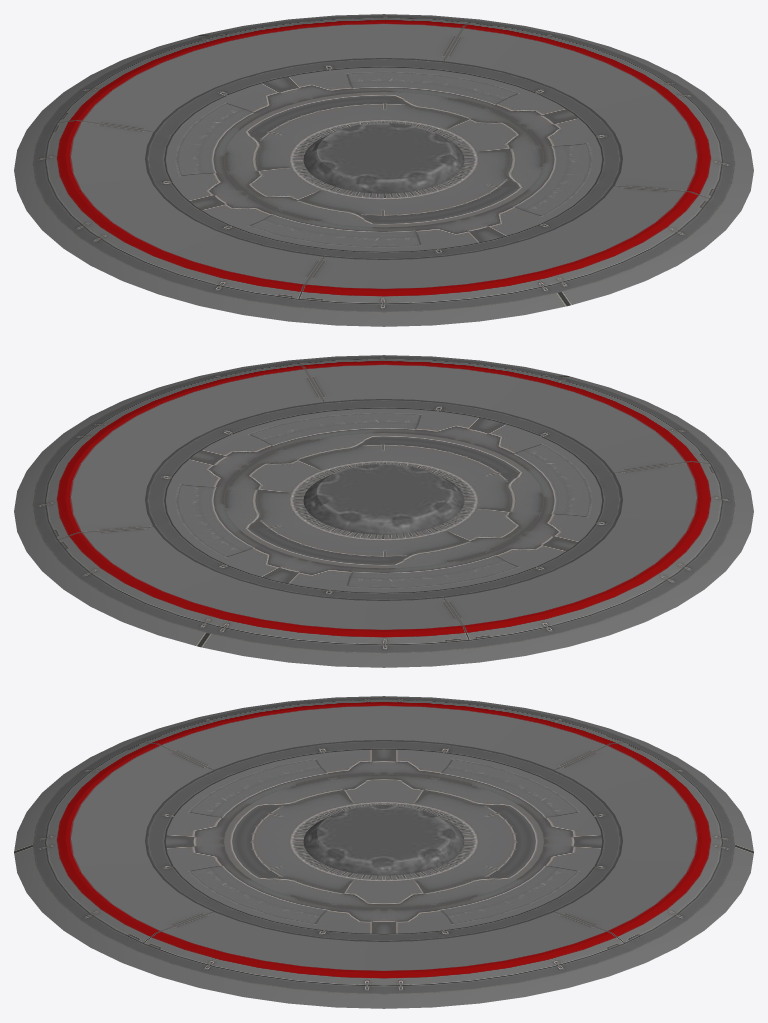
File: platform_round1.gltf
3 renders of one model, top to bottom at view 1: azimuth 30°, elevation 25°; view 2: azimuth 150°, elevation 25°; view 3: azimuth 270°, elevation 25°, orthographic.
Visible parts, largest first — view 1: Platform_Round1; view 2: Platform_Round1; view 3: Platform_Round1.
Part boxes in pixels (x1,y1,x2,y2): Platform_Round1: [14, 14, 753, 326]; Platform_Round1: [14, 355, 753, 667]; Platform_Round1: [14, 696, 753, 1008].
Bounding box in the file's own units: 5.99 × 0.1702 × 5.99.
2 materials, 2 textured.
